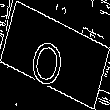O_N: (34, 23, 76, 87)
